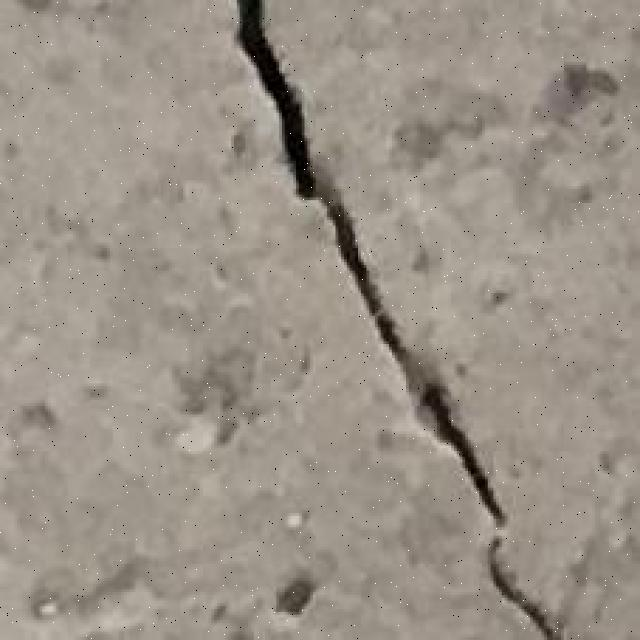Crack: (235, 1, 560, 637)
